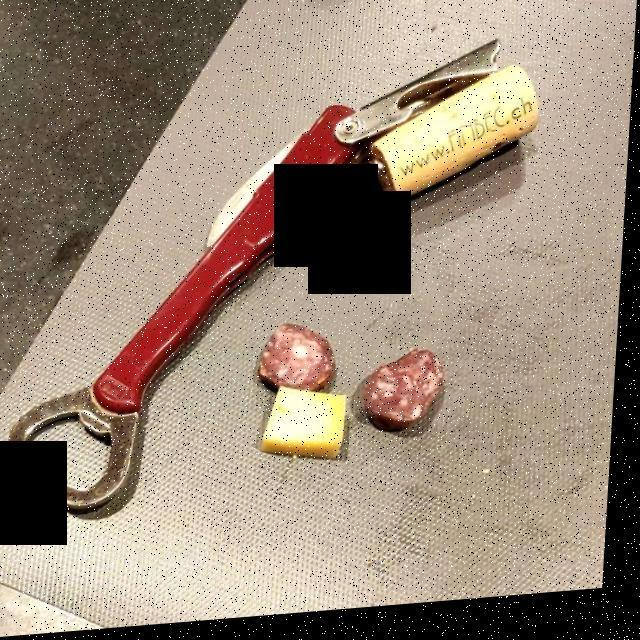cheese: (259, 390, 365, 463)
salami: (262, 329, 450, 452)
